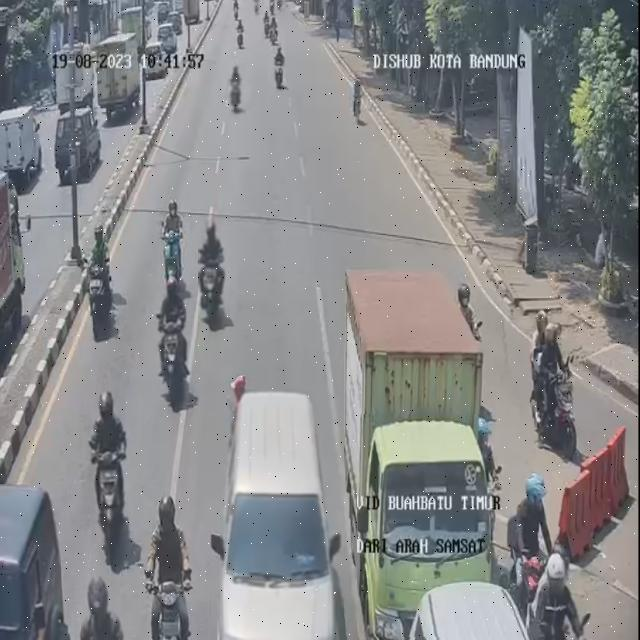cars: (220, 389, 344, 640), (0, 484, 61, 640), (402, 582, 543, 640)
motorcycle: (84, 389, 135, 544), (510, 474, 560, 614), (152, 492, 198, 638), (532, 313, 577, 451), (154, 274, 194, 400), (530, 555, 586, 640), (198, 215, 230, 323), (81, 578, 132, 640), (85, 223, 115, 327), (157, 194, 189, 285), (228, 62, 246, 118), (271, 42, 287, 92), (348, 78, 364, 124), (237, 16, 251, 52), (264, 11, 278, 43), (251, 0, 264, 11), (231, 0, 242, 9)
truck: (358, 414, 506, 637)
